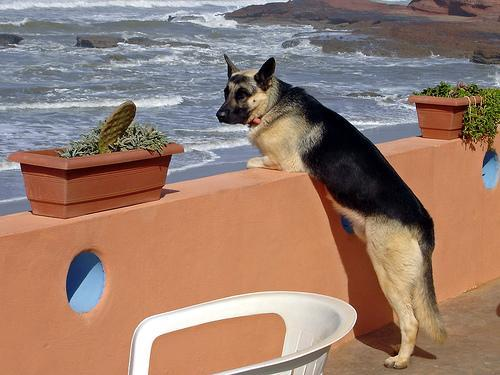German_shepherd: (213, 50, 450, 371)
